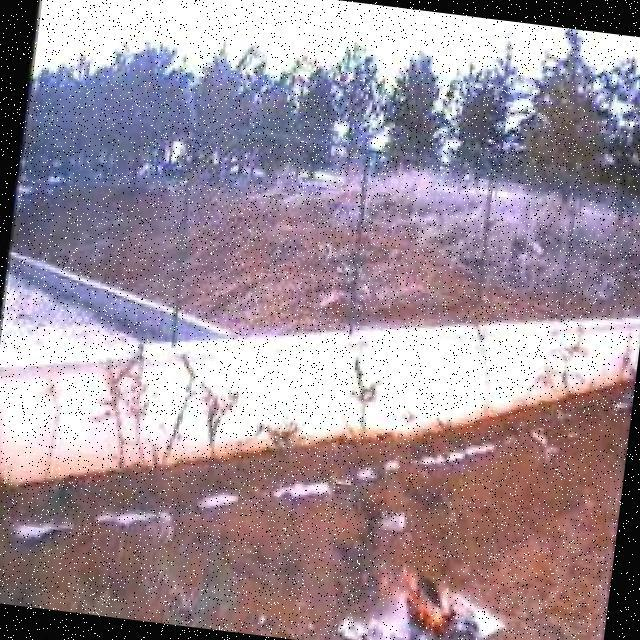Fire: (364, 554, 477, 640)
